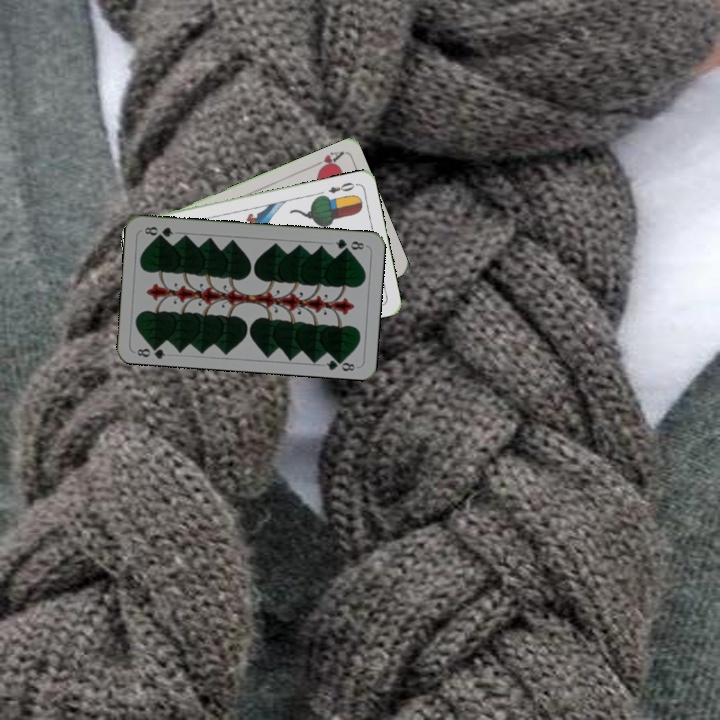EO: (324, 178, 360, 196)
G8: (133, 340, 168, 361), (331, 235, 367, 253)
HA: (307, 147, 346, 174)
